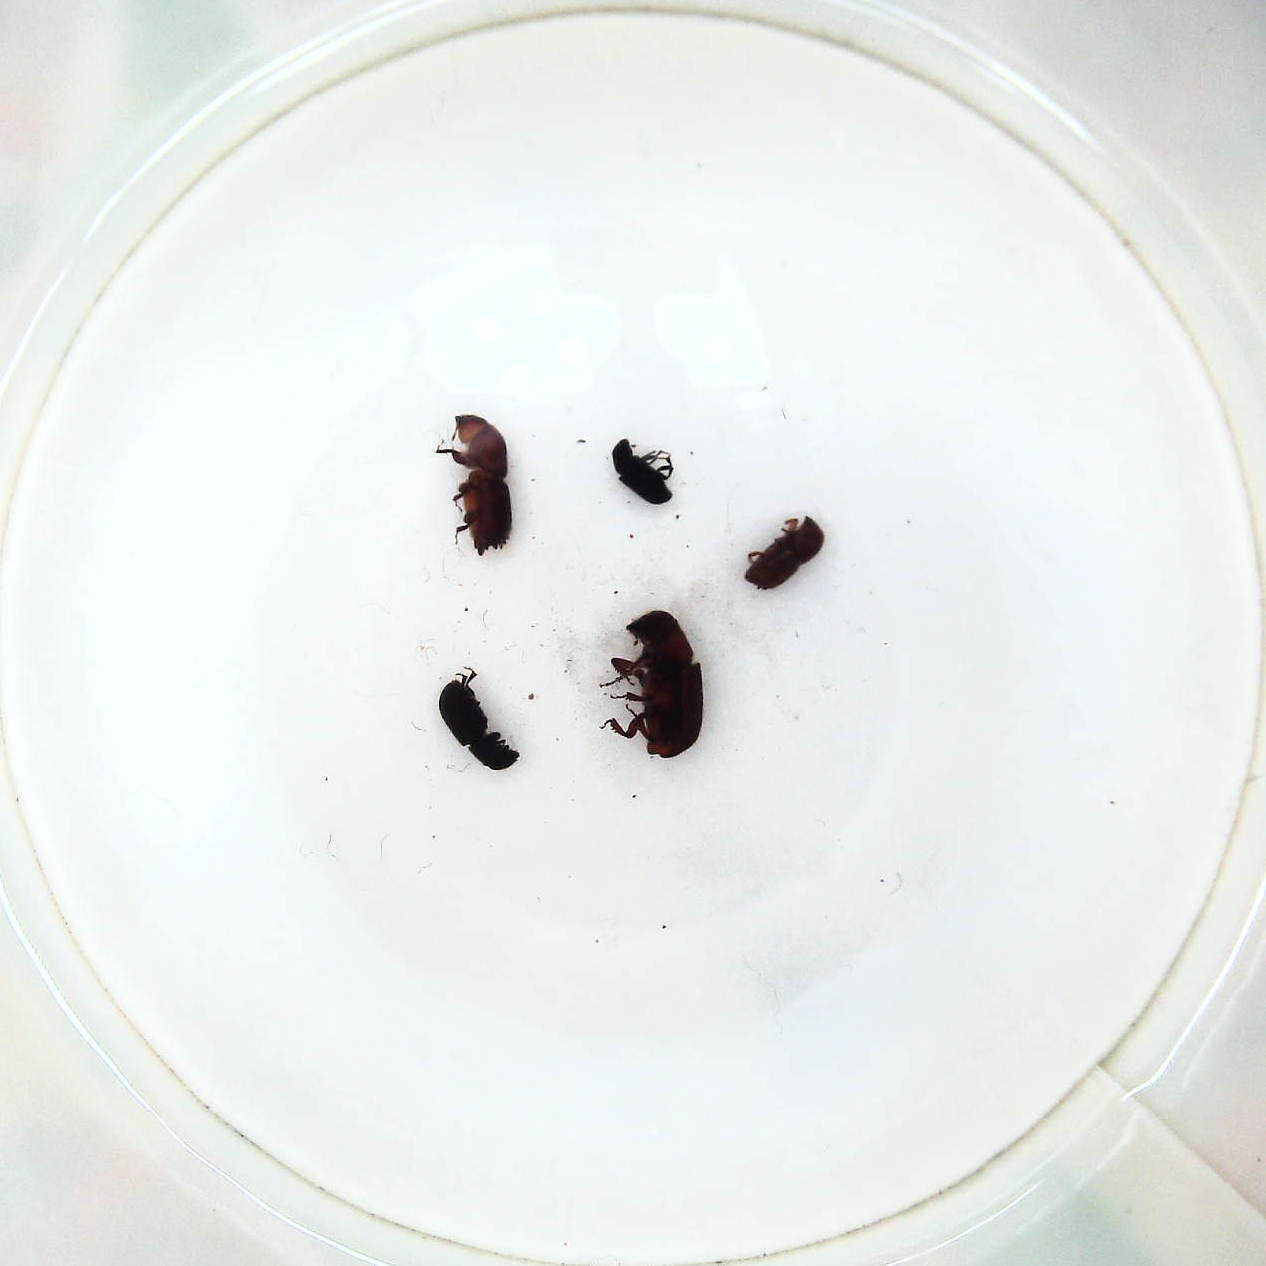Boerner: (432, 405, 521, 562)
Leconte: (599, 605, 710, 764)
armandi: (436, 665, 524, 774)
coleoptera: (604, 435, 677, 510)
linnaeus: (741, 512, 825, 591)
